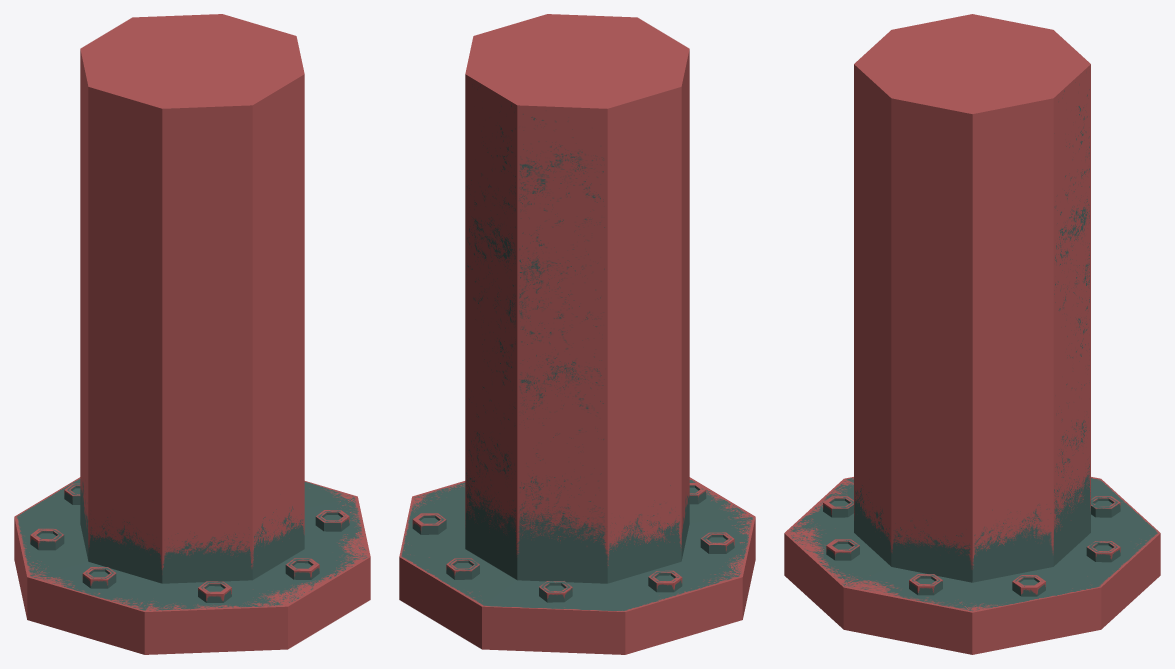
File: PIPE_1.fbx
The picture shows the model from 3 angles, left to right: view 1: azimuth 30°, elevation 25°; view 2: azimuth 150°, elevation 25°; view 3: azimuth 270°, elevation 25°; orthographic projection.
Visible parts, largest first — view 1: Plane.000; view 2: Plane.000; view 3: Plane.000.
Boxes of the visible parts, bbox=[...] form: Plane.000: bbox=[14, 14, 370, 654]; Plane.000: bbox=[399, 14, 755, 654]; Plane.000: bbox=[784, 14, 1160, 654].
Size of the model in its own units: 559 by 838 by 559.
